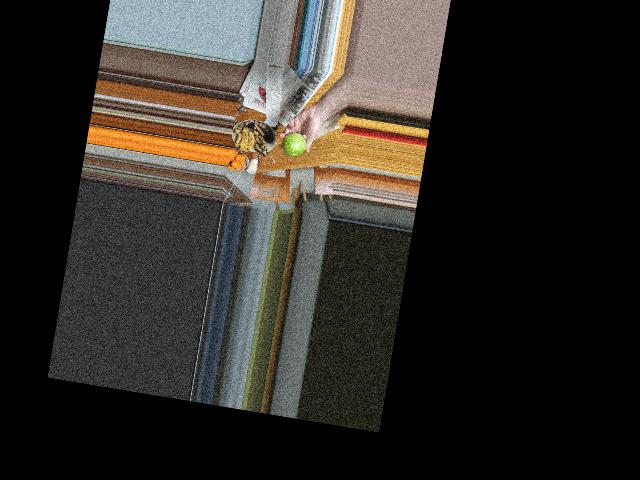apple: (280, 129, 307, 158)
